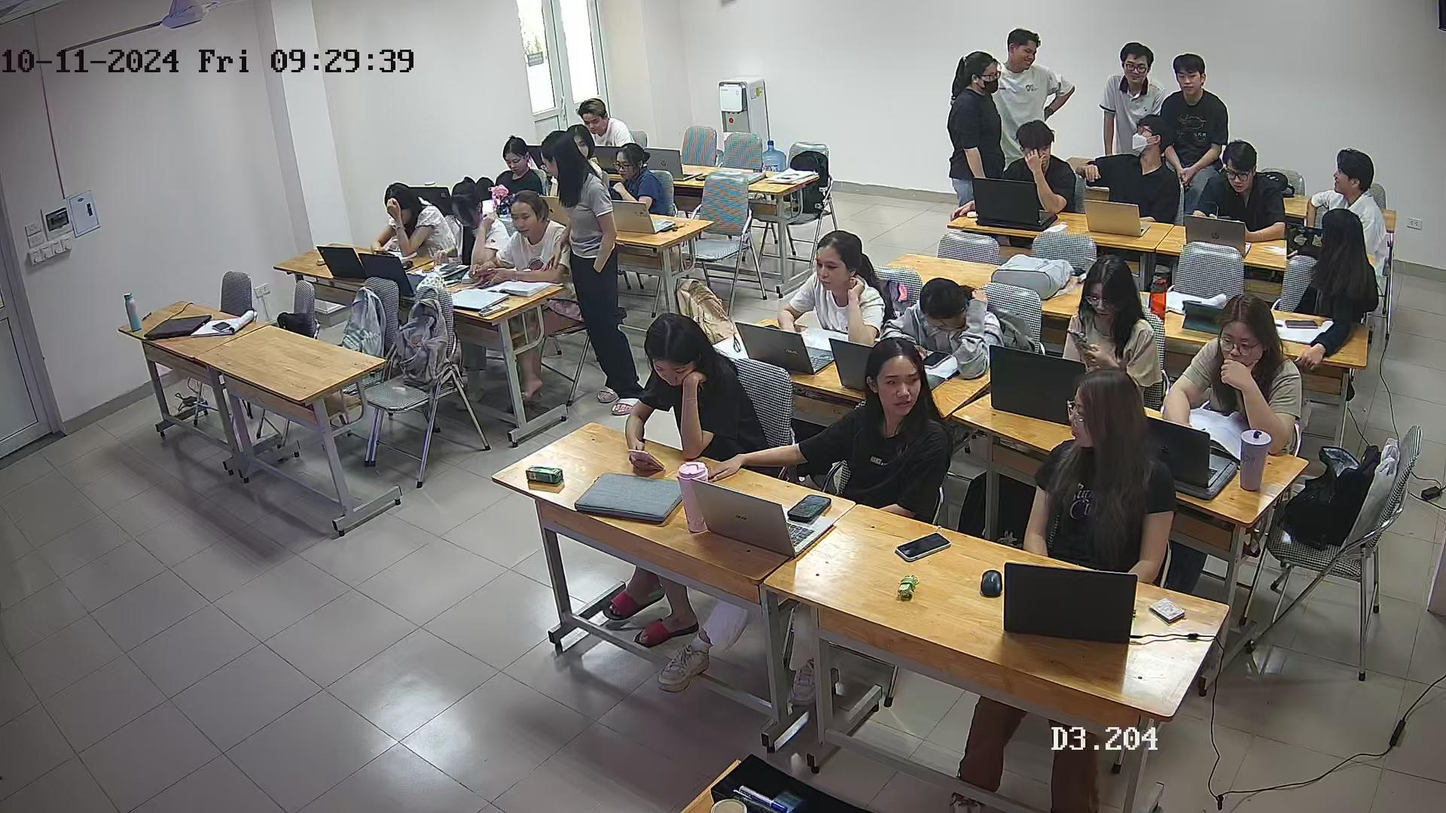Hand Under Table: (1139, 518, 1181, 595), (886, 471, 935, 534), (1021, 486, 1054, 562)
Look Around: (1059, 366, 1148, 467), (871, 342, 943, 441), (1313, 134, 1378, 203), (1125, 114, 1178, 172)
Stand Up: (536, 129, 607, 387), (925, 42, 999, 181), (1000, 20, 1053, 116), (1104, 42, 1160, 114)
Wave: (389, 200, 419, 263)
phone: (1060, 319, 1101, 361)
